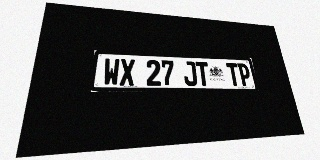2: (146, 60, 161, 86)
7: (160, 60, 175, 86)
J: (183, 61, 198, 86)
P: (237, 63, 252, 86)
T: (195, 62, 210, 86), (226, 63, 241, 86)
W: (103, 58, 120, 86)
X: (119, 59, 135, 86)
